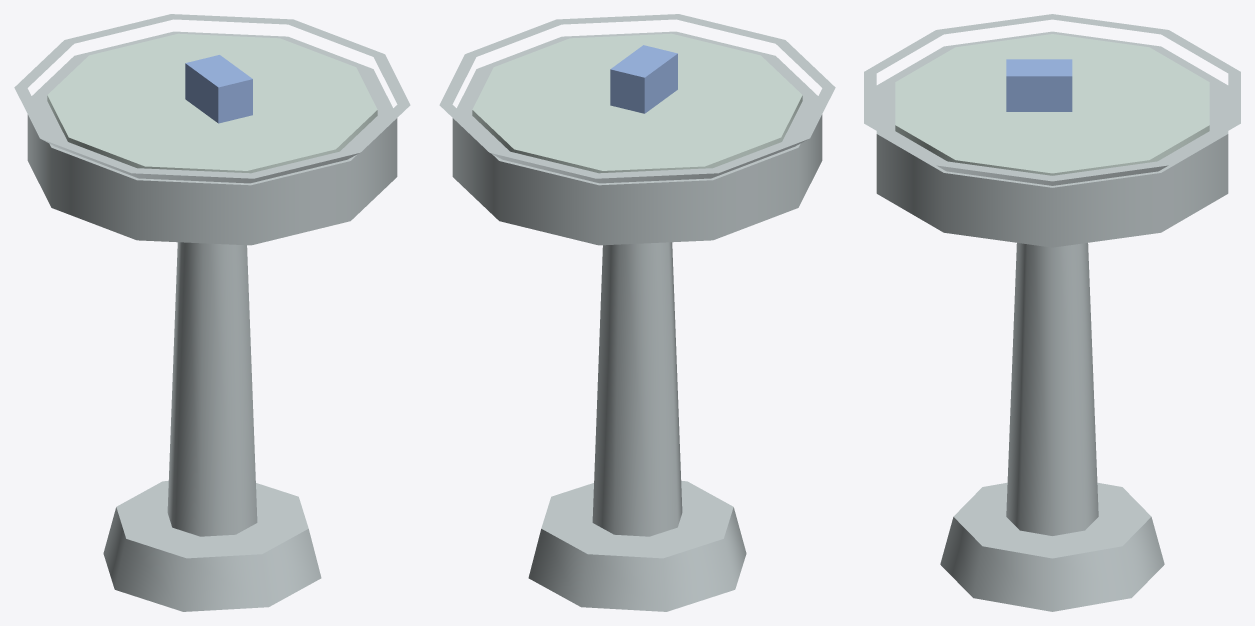
The model's file is birdBath.glb.
The picture shows the model from 3 angles, left to right: view 1: azimuth 30°, elevation 25°; view 2: azimuth 150°, elevation 25°; view 3: azimuth 270°, elevation 25°; orthographic projection.
Parts seen in each view (by area): view 1: birdBath; view 2: birdBath; view 3: birdBath.
Part boxes in pixels (x1,y1,x2,y2): birdBath: (14, 14, 410, 611); birdBath: (439, 14, 835, 611); birdBath: (864, 14, 1240, 611).
Bounding box in the file's own units: 0.3 × 0.415 × 0.2853.
